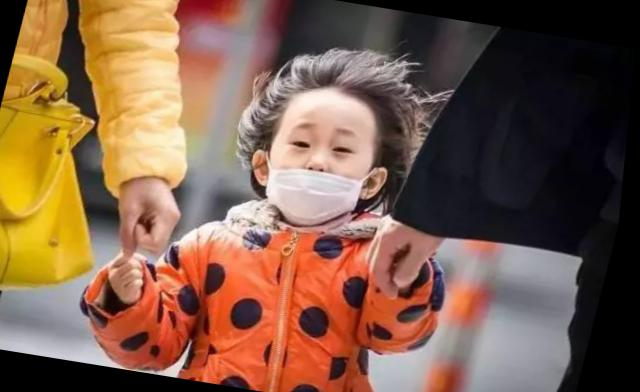WRONG: (257, 106, 385, 235)
